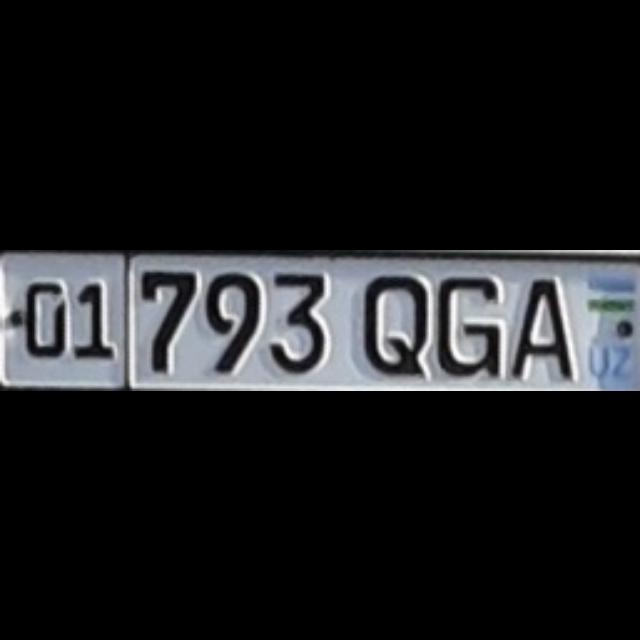0: (23, 278, 65, 356)
1: (70, 278, 112, 356)
3: (269, 271, 321, 371)
7: (140, 269, 194, 371)
9: (202, 269, 256, 371)
A: (510, 276, 570, 376)
G: (434, 274, 498, 374)
Q: (360, 271, 426, 373)
